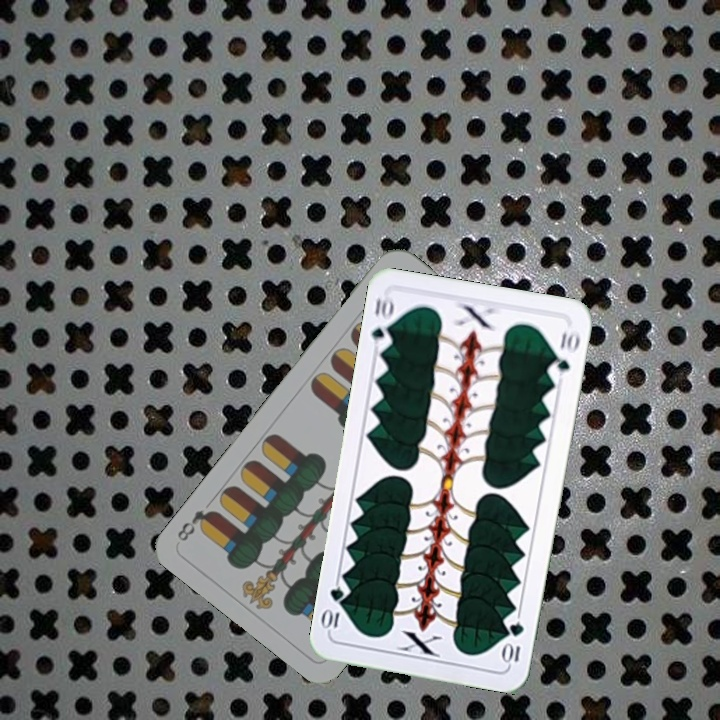G10: (367, 292, 397, 352), (500, 617, 527, 667)
